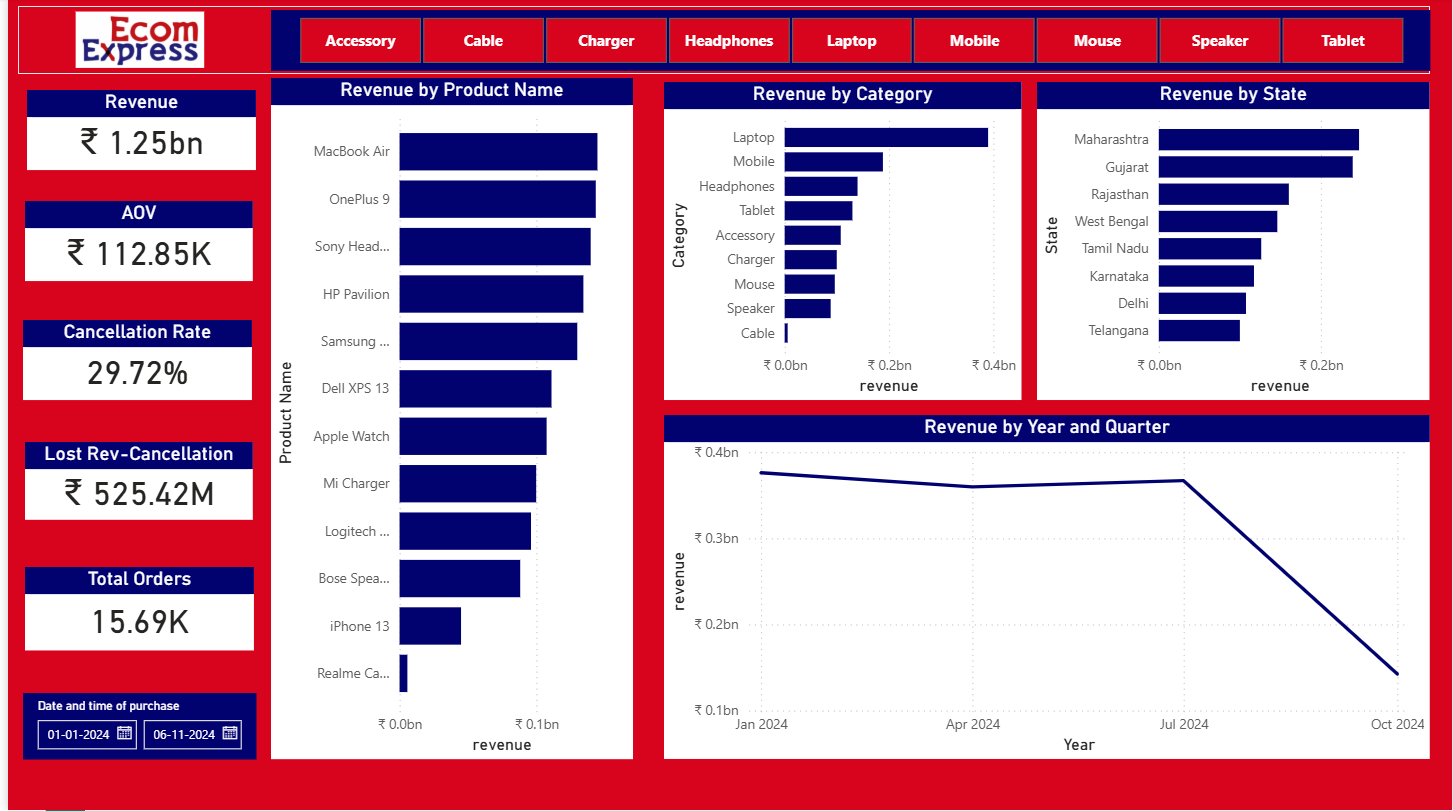

This screenshot's page, from the dashboard's own definition file:
{"tool":"powerbi","page":{"name":"Page 1","canvas":[1280,720],"ordinal":0},"visuals":[{"type":"shape","box":[8.9,7.1,1252,60.3],"z":1},{"type":"shape","box":[8.9,67.4,218.1,634.9],"z":2},{"type":"image","box":[55,0,124.1,74.5],"z":3},{"type":"barChart","title":"Revenue by Product Name","fields":{"Y":["Table.revenue"],"Category":["Products.Product Name"]},"box":[233.2,70.9,321,603.8],"z":4},{"type":"barChart","title":"Revenue by Category","fields":{"Y":["Table.revenue"],"Category":["Products.Category"]},"box":[582.1,74.3,317,282.1],"z":5},{"type":"lineChart","title":"Revenue by Year and Quarter","fields":{"Y":["Table.revenue"],"Category":["Orders.Date and time of purchase.Variation.Date Hierarchy.Year","Orders.Date and time of purchase.Variation.Date Hierarchy.Quarter","Orders.Date and time of purchase.Variation.Date Hierarchy.Month","Orders.Date and time of purchase.Variation.Date Hierarchy.Day"]},"box":[581.7,369.8,679.2,305],"z":6},{"type":"barChart","title":"Revenue by State","fields":{"Category":["Customers.State"],"Y":["Table.revenue"]},"box":[912.4,74.5,348.5,282],"z":7},{"type":"slicer","title":"Category","fields":{"Values":["Products.Category"]},"box":[232.8,10.7,1028.1,53.7],"z":8},{"type":"card","title":"Revenue","fields":{"Values":["Table.revenue"]},"box":[17,81.5,203.3,70.7],"z":9},{"type":"card","title":"AOV","fields":{"Values":["Table.avg_order_value"]},"box":[15.1,180,202.2,70.9],"z":10},{"type":"card","title":"Cancellation Rate","fields":{"Values":["Table.cancellation rate"]},"box":[13.3,285.5,203.1,70.9],"z":11},{"type":"card","title":"Lost Rev-Cancellation","fields":{"Values":["Table.lost_rev_cancellation"]},"box":[15.1,393.7,202.2,69.2],"z":12},{"type":"card","title":"Total Orders","fields":{"Values":["CountNonNull(Orders.OrderID)"]},"box":[15.1,504.5,203.1,74.5],"z":13},{"type":"slicer","fields":{"Values":["Orders.Date and time of purchase"]},"box":[13.3,616.3,206.6,58.5],"z":14}]}

Visuals, with their boxes in screenshot pixels (x1, y1, x2, y2), scaled from the page's 1280x720 canvas onto the 1453x811 screenshot:
shape: (10, 8, 1431, 76)
shape: (10, 76, 258, 791)
image: (62, 0, 203, 84)
"Revenue by Product Name" barChart: (265, 80, 629, 760)
"Revenue by Category" barChart: (661, 84, 1021, 401)
"Revenue by Year and Quarter" lineChart: (660, 417, 1431, 760)
"Revenue by State" barChart: (1036, 84, 1431, 402)
"Category" slicer: (264, 12, 1431, 73)
"Revenue" card: (19, 92, 250, 171)
"AOV" card: (17, 203, 247, 283)
"Cancellation Rate" card: (15, 322, 246, 401)
"Lost Rev-Cancellation" card: (17, 443, 247, 521)
"Total Orders" card: (17, 568, 248, 652)
slicer - Orders.Date and time of purchase: (15, 694, 250, 760)
